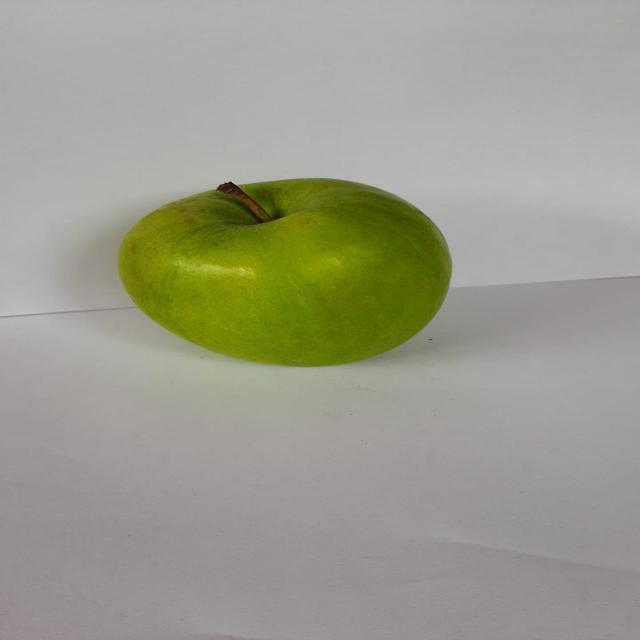50-_ripeness: (102, 164, 462, 379)
